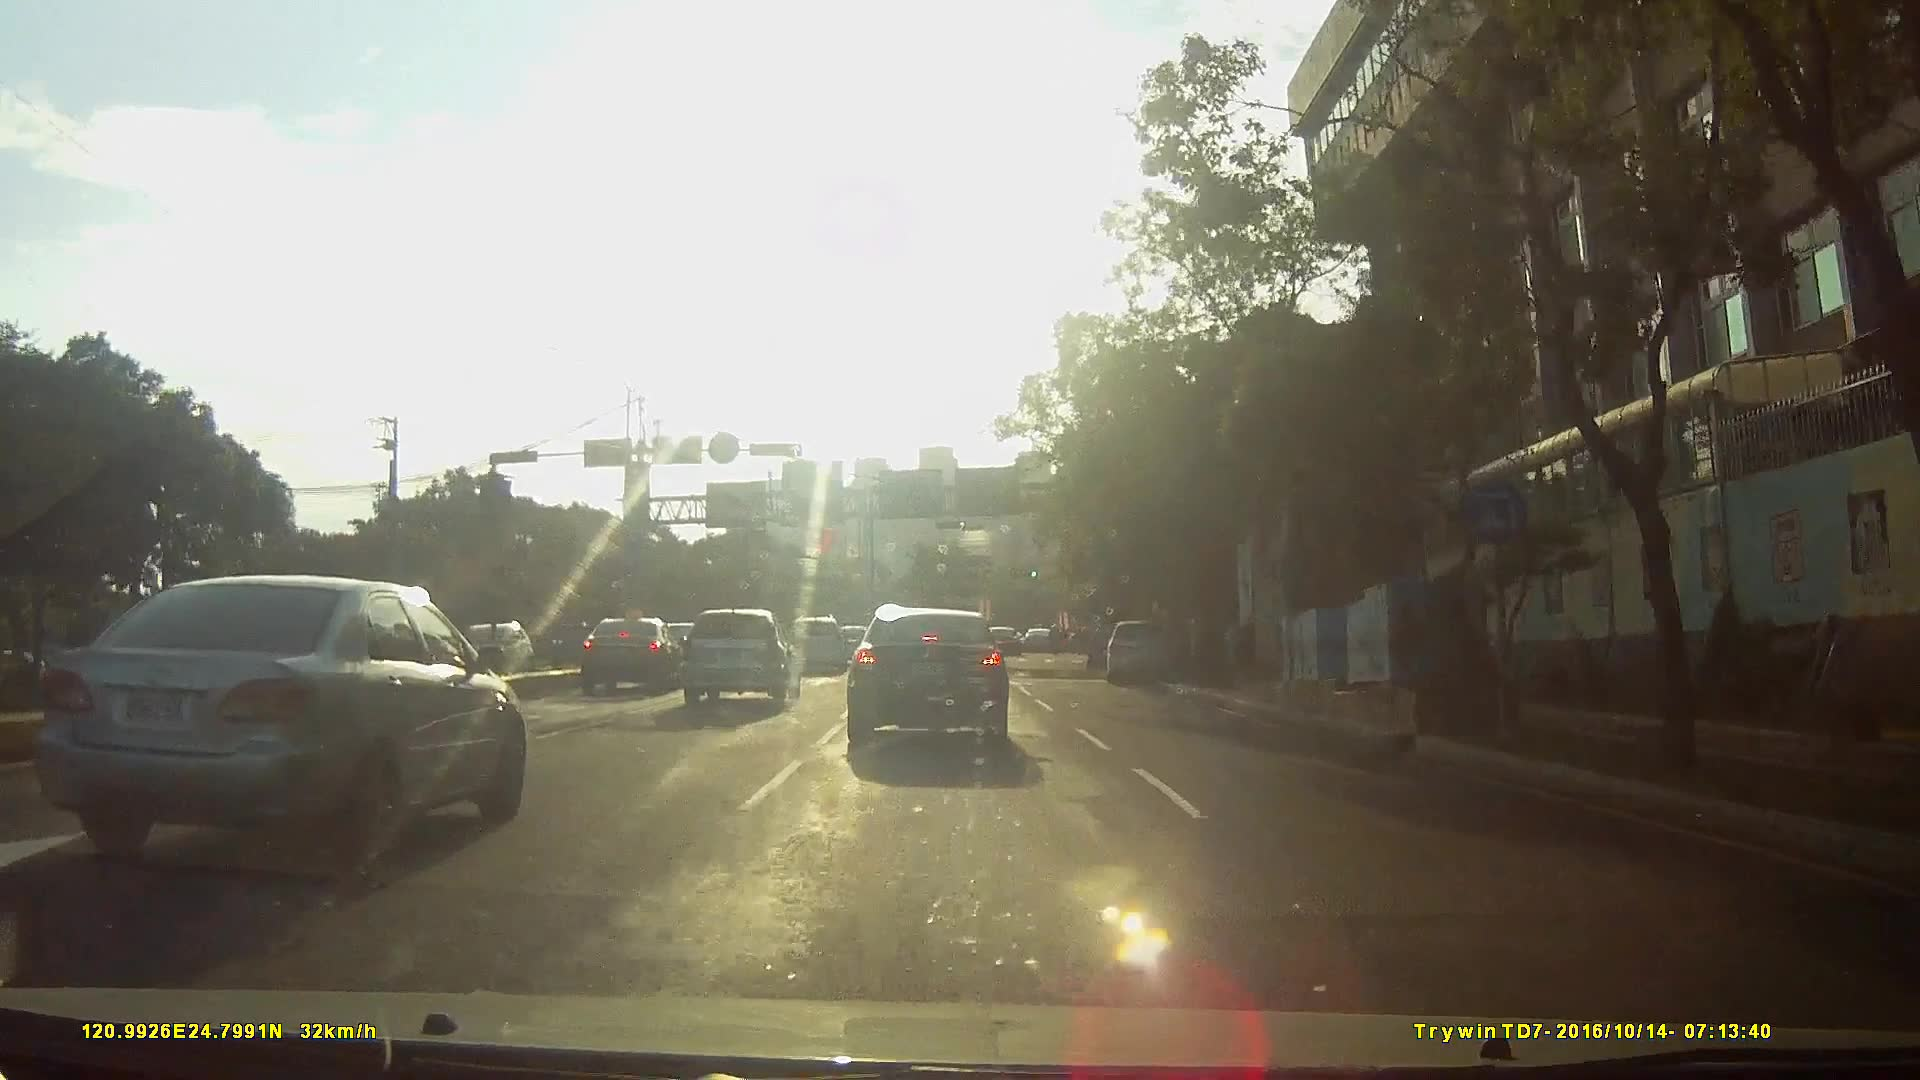vehicle: (34, 553, 537, 877), (836, 603, 1025, 767), (674, 595, 800, 702), (559, 603, 673, 687), (447, 608, 535, 675), (1106, 604, 1184, 674), (785, 605, 851, 665), (1021, 616, 1063, 644)
